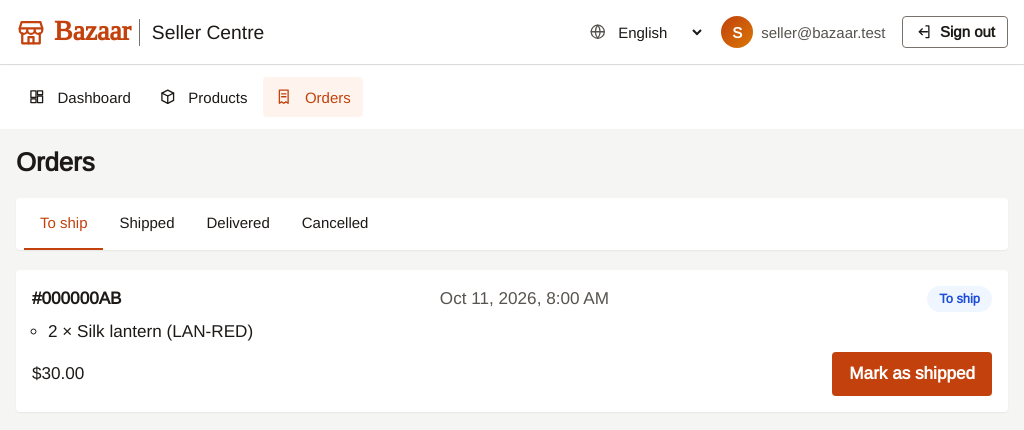
seller orders › shows orders to ship and ships one
The width and height of the screenshot is (1024, 430).
expect the text "#000000AB" is shown: met, box [32,287,122,311]
expect the list item "2 × Silk lantern (LAN-RED)" is shown: met, box [48,322,253,341]
Click the button "Mark as shipped".
click(912, 374)  # box [832,352,992,396]
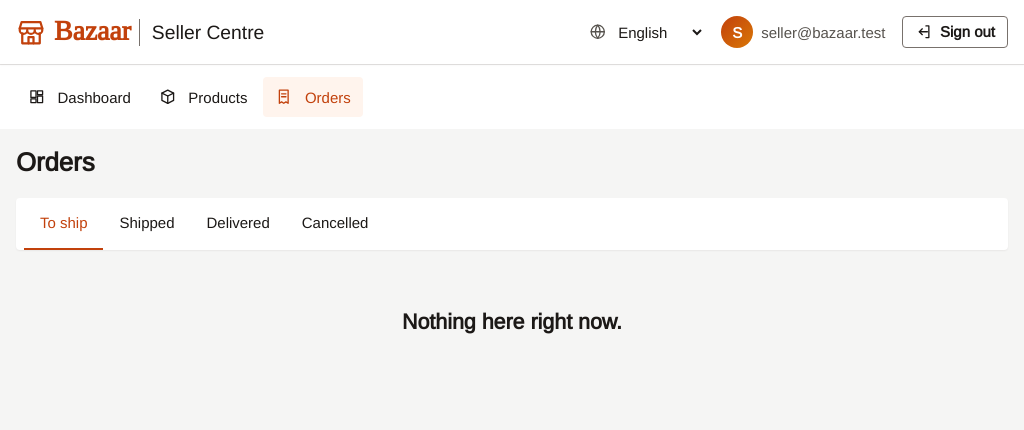
expect the heading "Nothing here right now." is shown: met, box [402,310,622,334]
Click the button "Shipped".
click(147, 224)  # box [104,198,190,250]
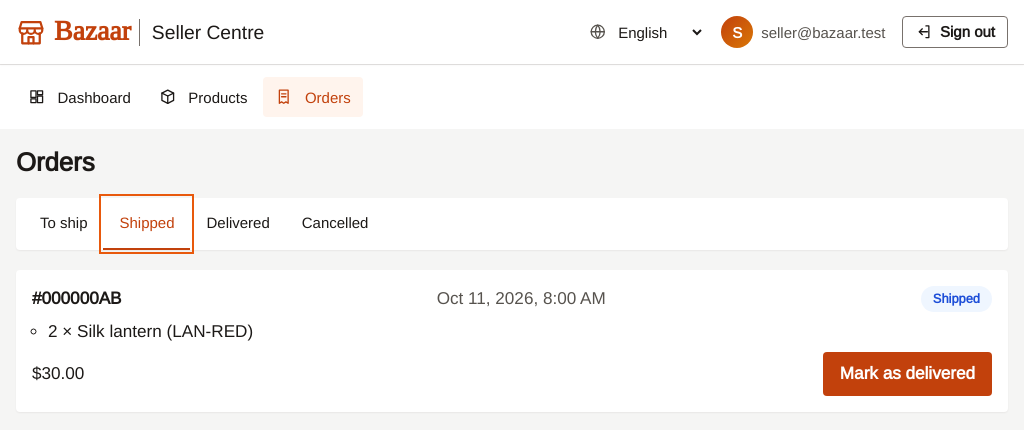
expect the button "Mark as delivered" is shown: met, box [823,352,992,396]
